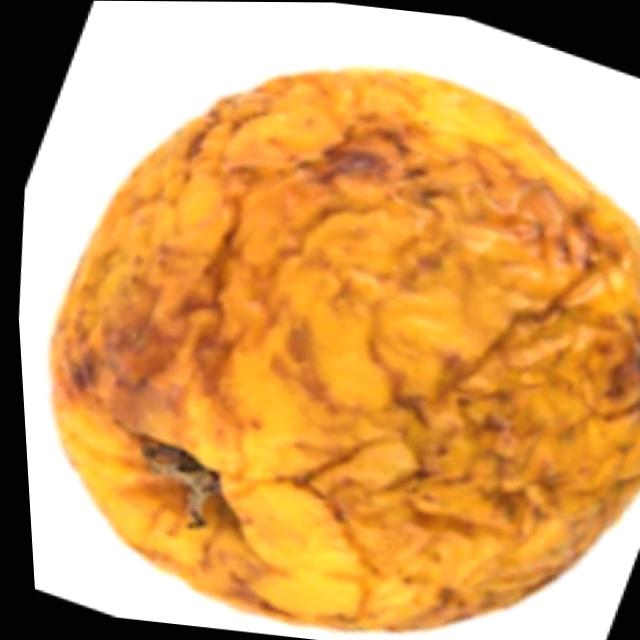organik: (14, 27, 640, 637)
